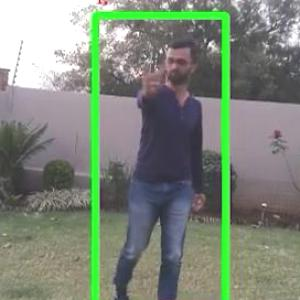takeoff-hand: (132, 56, 167, 100)
